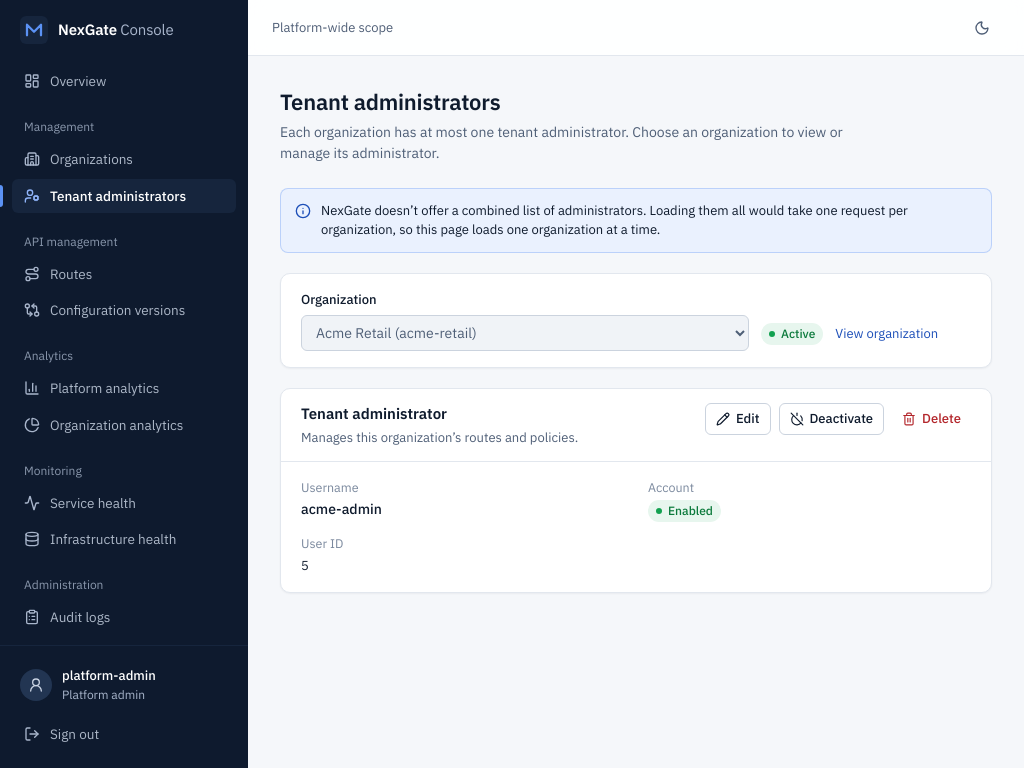
Test: tenant administrators page › deletes only after confirmation
Click the button "Delete".
click(932, 419)  # box [892,403,971,435]
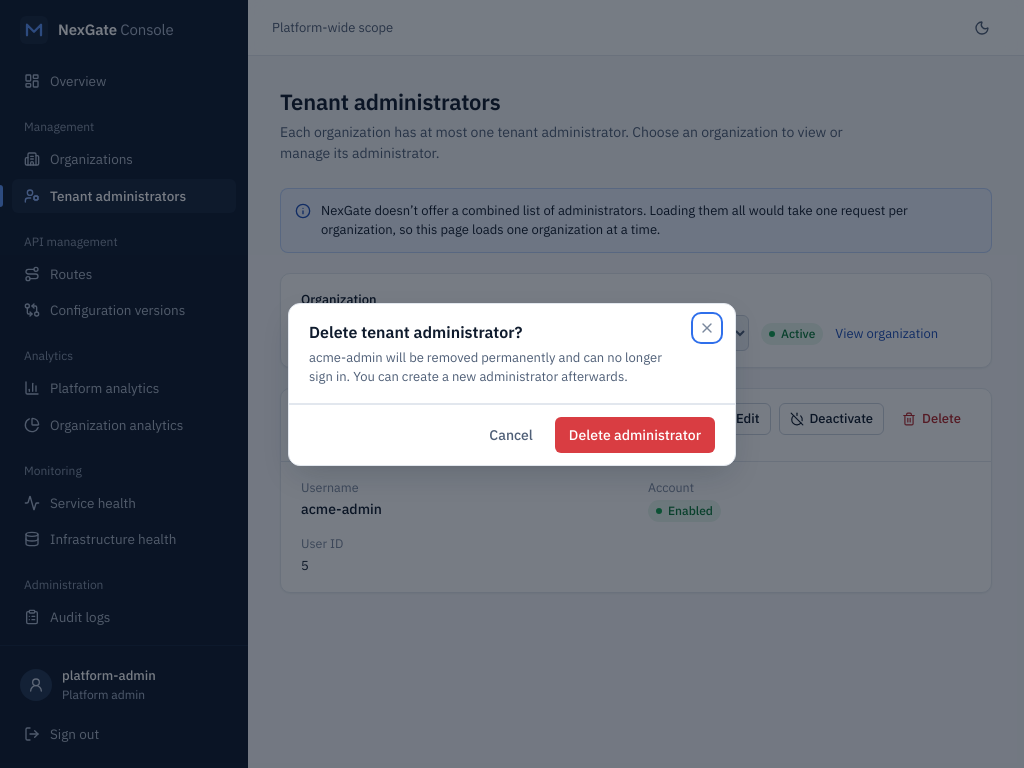
Click the button "Delete administrator".
click(635, 434)  # box [555,416,715,452]
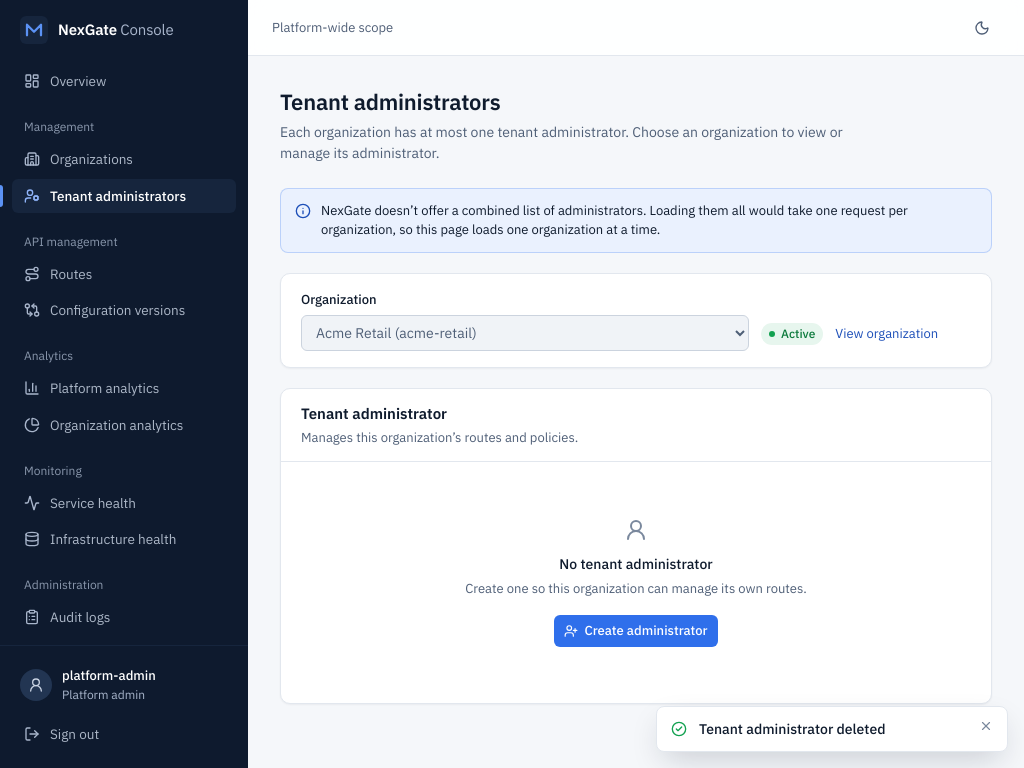
Check: the text "No tenant administrator" is shown, box [559,554,713,575]
